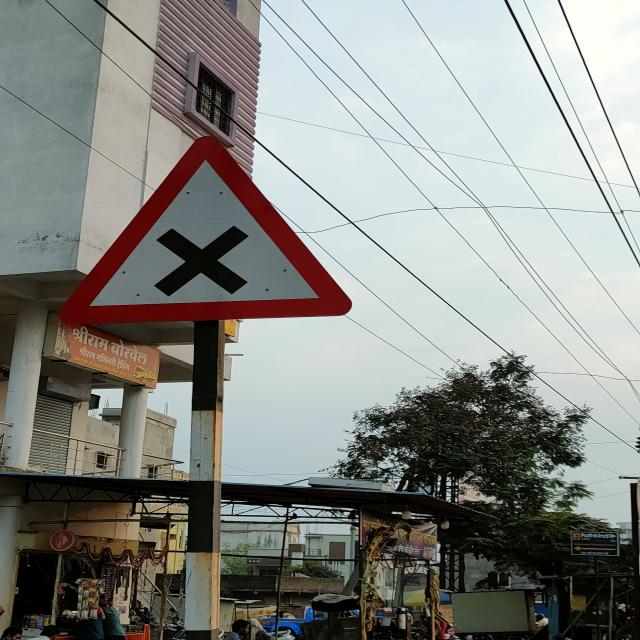CROSS_ROAD: (55, 135, 354, 322)
